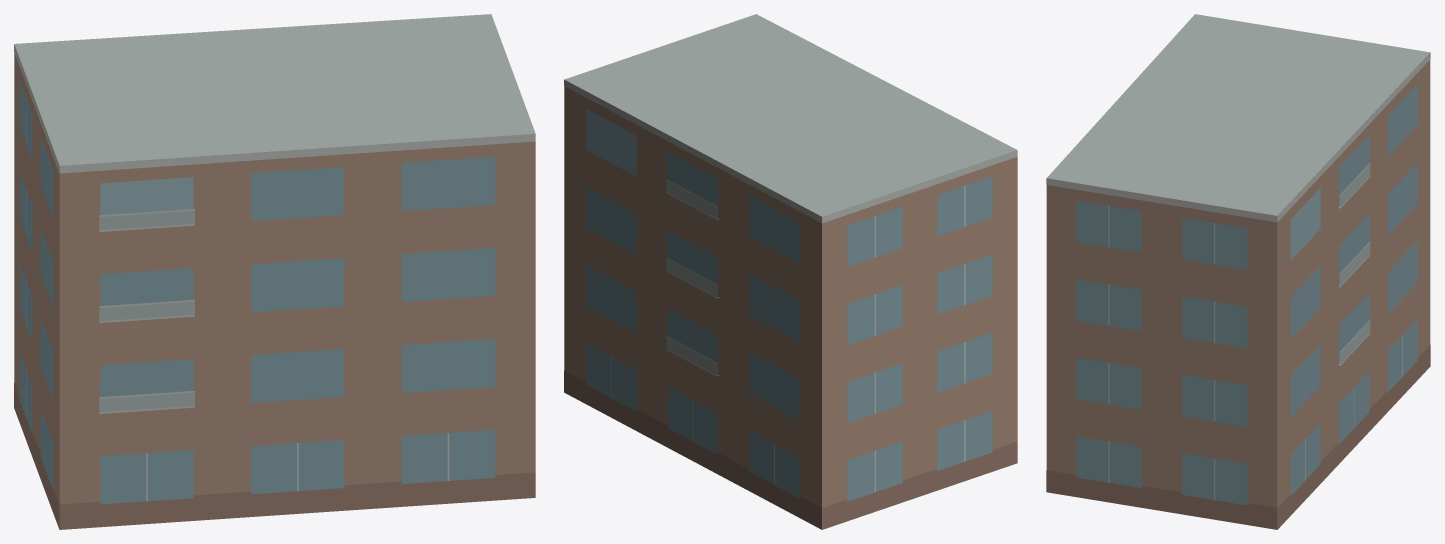
Rendered from survey-upis-32874363.glb.
3 views of the same model, side by side, from view 1: azimuth 30°, elevation 25°; view 2: azimuth 150°, elevation 25°; view 3: azimuth 270°, elevation 25° (orthographic). The views are drawn at different scales.
Visible parts, largest first — view 1: survey-upis-32874363.tmp; view 2: survey-upis-32874363.tmp; view 3: survey-upis-32874363.tmp.
Boxes of the visible parts, x1=… form: survey-upis-32874363.tmp: x1=14, y1=14, x2=535, y2=529; survey-upis-32874363.tmp: x1=564, y1=14, x2=1017, y2=529; survey-upis-32874363.tmp: x1=1046, y1=14, x2=1430, y2=529.
Size of the model in its own units: 16 by 11.6 by 12.87.
